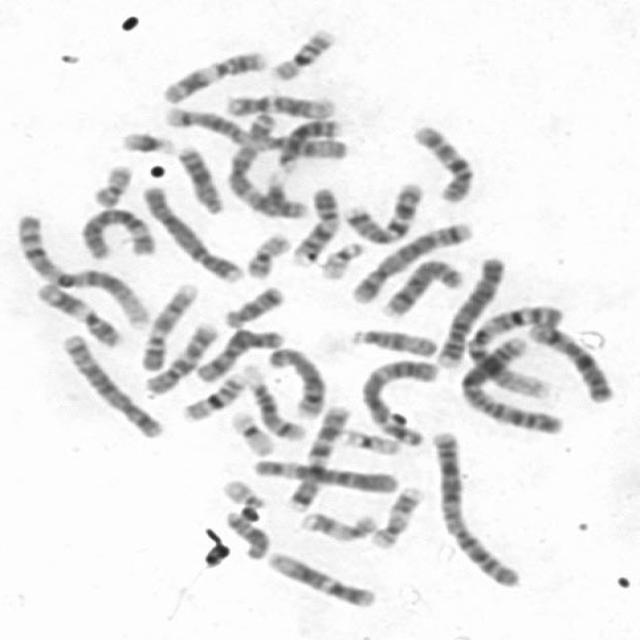A1: (8, 208, 154, 332), (461, 298, 566, 400)
A2: (427, 424, 526, 591), (457, 330, 567, 437)
A3: (222, 106, 312, 220), (354, 353, 441, 449)
B4: (135, 180, 245, 284), (432, 250, 509, 370)
B5: (56, 329, 166, 439), (347, 216, 477, 304)
C10: (136, 317, 222, 395), (406, 118, 478, 205)
C11: (30, 275, 126, 350), (155, 44, 269, 105)
C12: (260, 546, 380, 610), (220, 88, 340, 119)
C6: (248, 453, 401, 495), (76, 202, 159, 260)
C7: (280, 400, 352, 512), (338, 176, 428, 246)
C8: (378, 252, 468, 318), (262, 340, 330, 420)
C9: (135, 278, 202, 371), (286, 182, 343, 267)
D13: (171, 138, 227, 216), (273, 114, 347, 172)
D14: (240, 362, 310, 442), (159, 101, 249, 145)
D15: (346, 323, 438, 358), (257, 130, 354, 162)
E16: (265, 22, 339, 83), (178, 366, 252, 422)
E17: (366, 480, 425, 550), (293, 506, 382, 542)
E18: (218, 280, 288, 328), (220, 506, 273, 560)
F19: (224, 405, 278, 457), (335, 423, 403, 456)
F20: (238, 227, 293, 280), (86, 158, 135, 208)
G21: (115, 125, 179, 156), (258, 169, 290, 219)
G22: (316, 236, 368, 281), (217, 474, 268, 509)
X: (523, 317, 619, 405), (190, 321, 286, 384)
